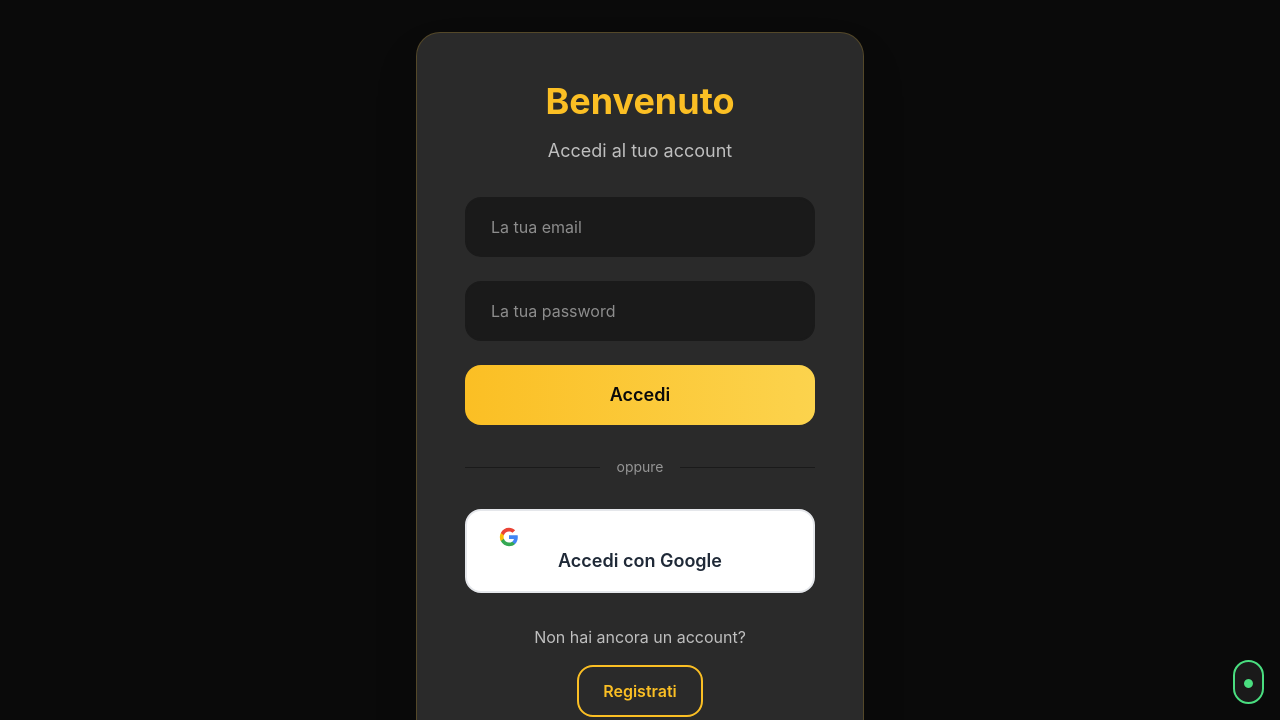
Test: Arena Authentication › Login Page › should handle login with invalid credentials
Expected: the heading "Benvenuto" is shown, [545, 79, 735, 123]
Step 1. Type "invalid@example.com" into the field with placeholder "La tua email" → (640, 227), box [465, 197, 815, 257]
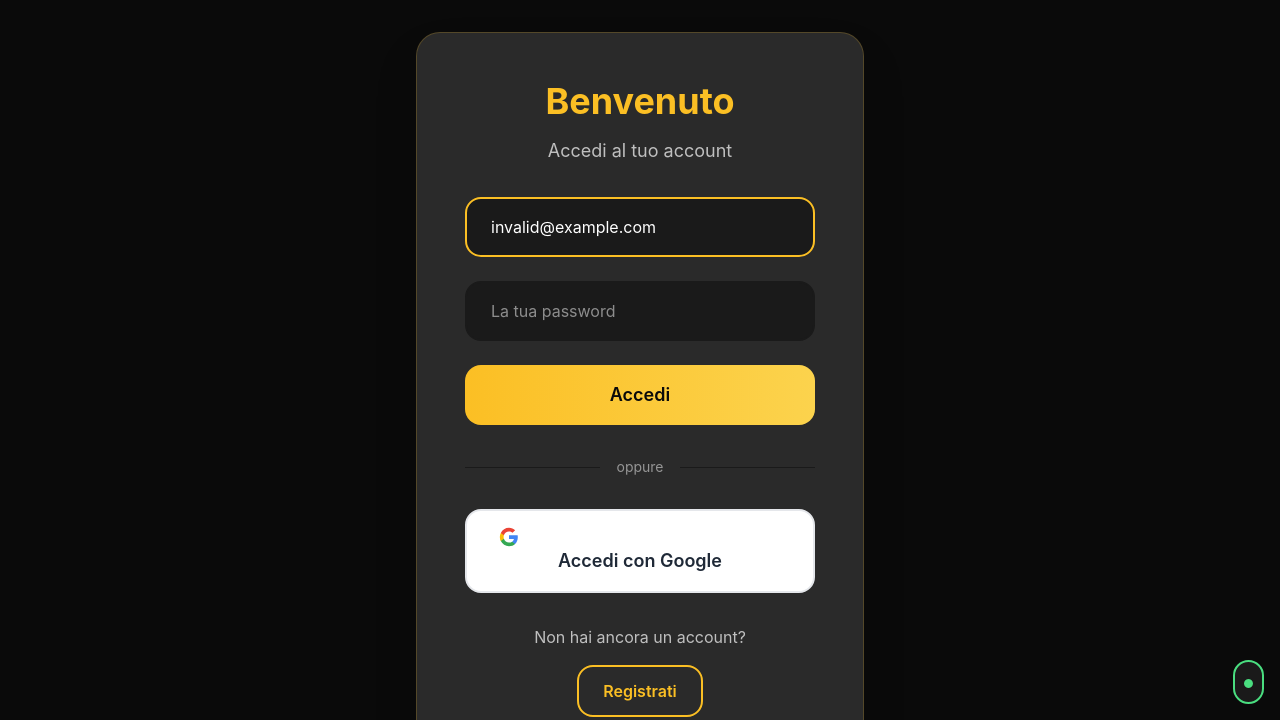
Step 2. Type "wrongpassword" into the password field with placeholder "La tua password" → (640, 311), box [465, 281, 815, 341]
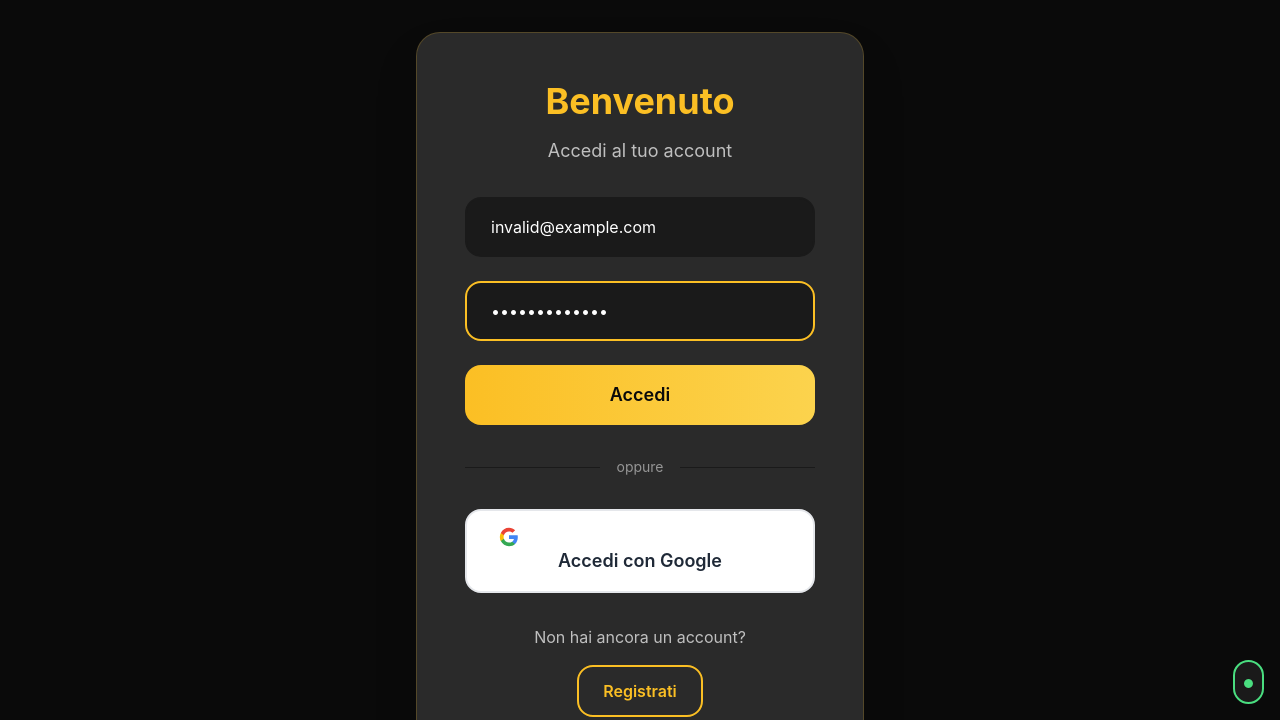
Step 3. Click the button "Accedi" → (640, 395), box [465, 365, 815, 425]
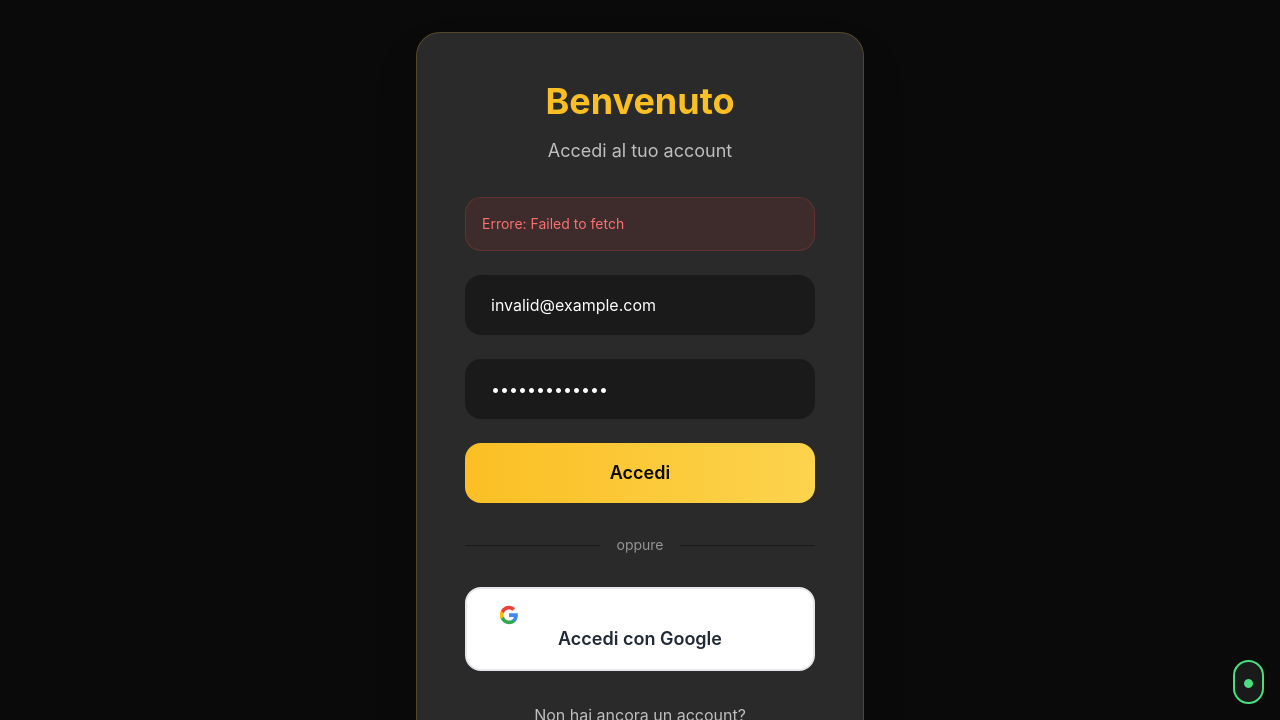
Expected: the text "Errore" is shown, [482, 215, 624, 232]
